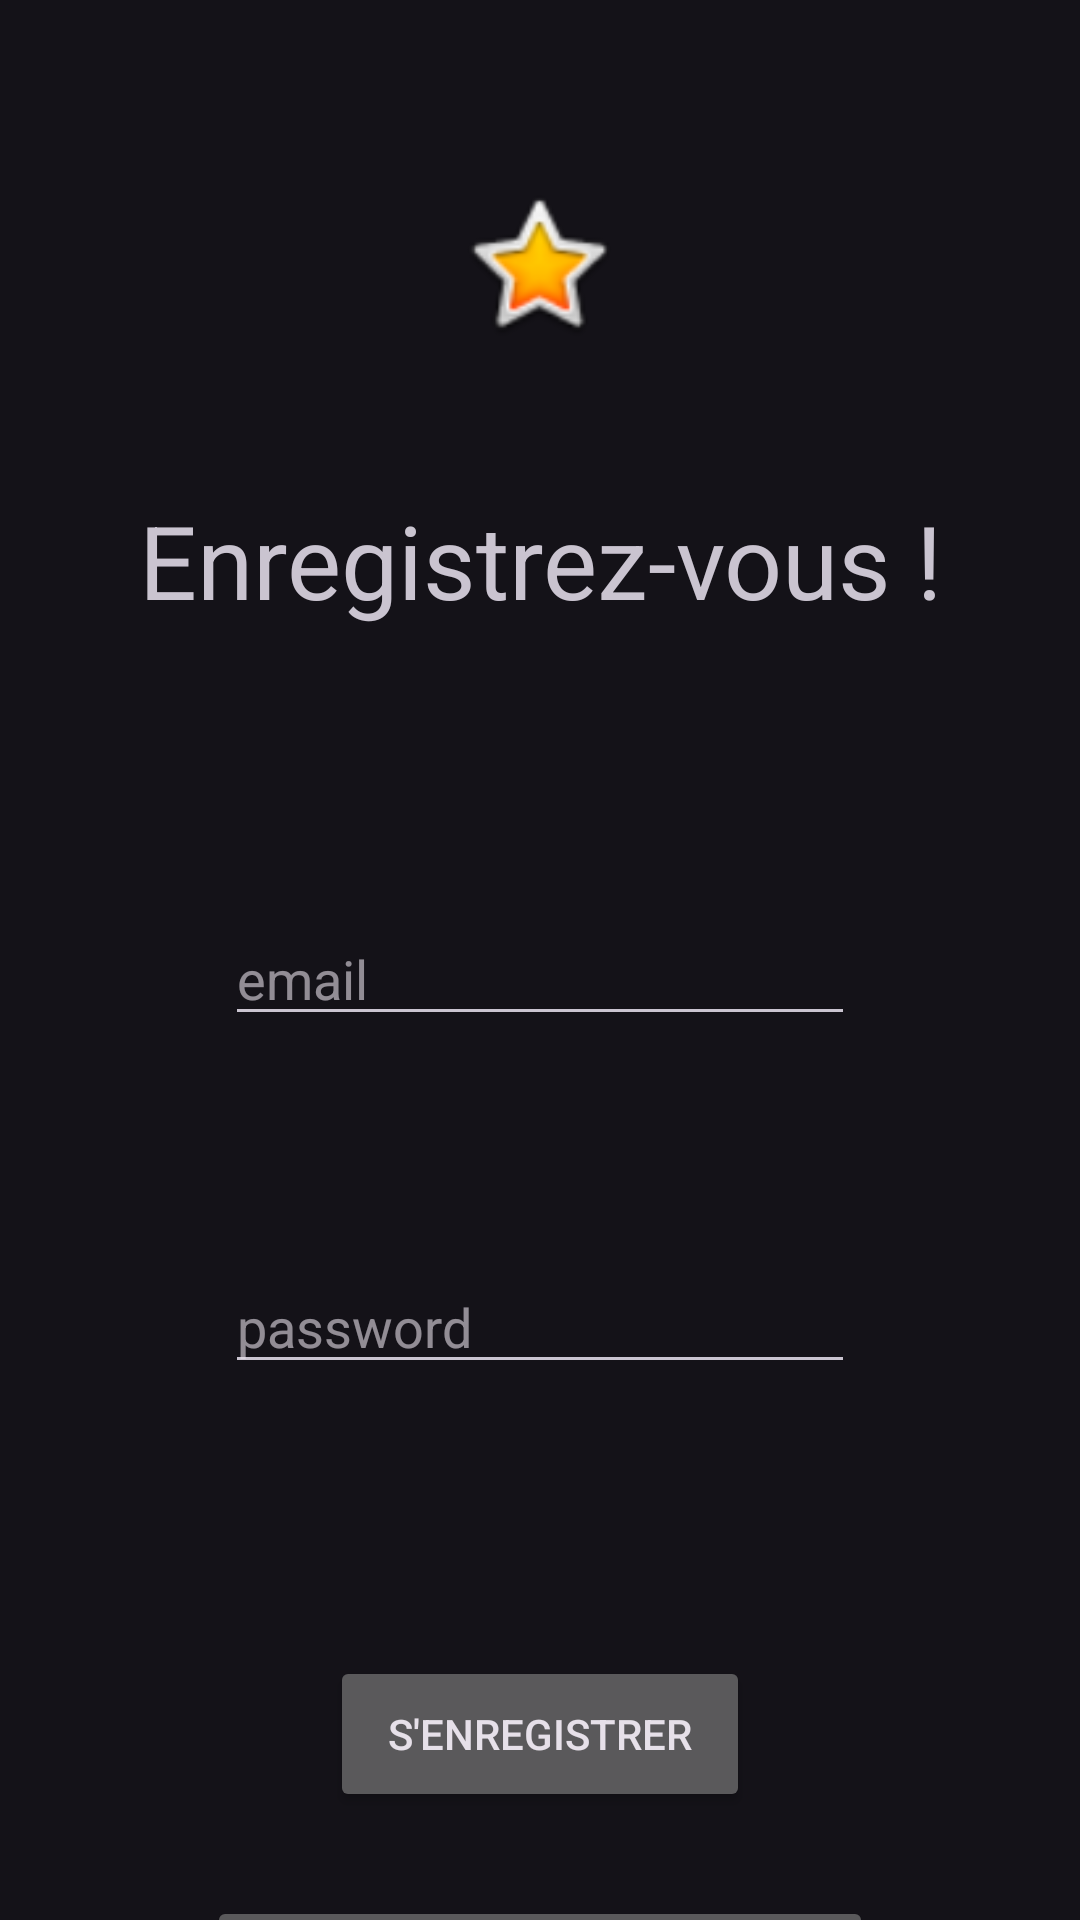

Locate icon controls on the screen. Image size 1080 × 1920, boxes as (x1, y1, x2, y2).
star on: (472, 200, 607, 328)
